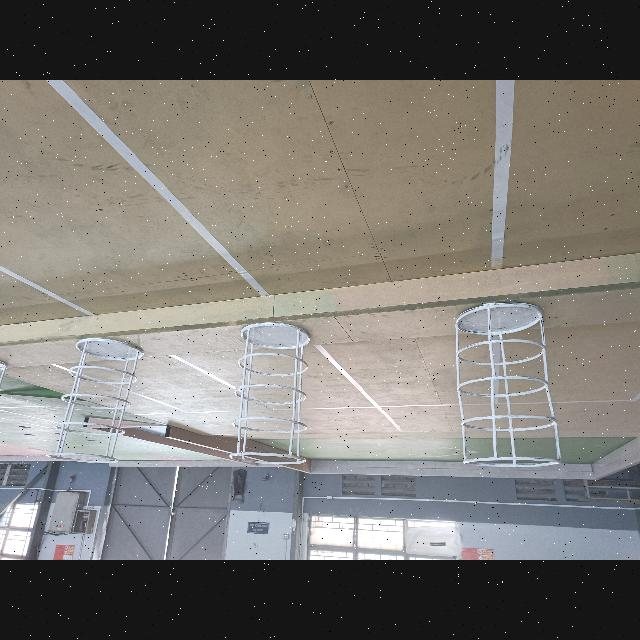S: (456, 301, 561, 469), (44, 336, 147, 465), (231, 322, 311, 466), (0, 358, 10, 389)
